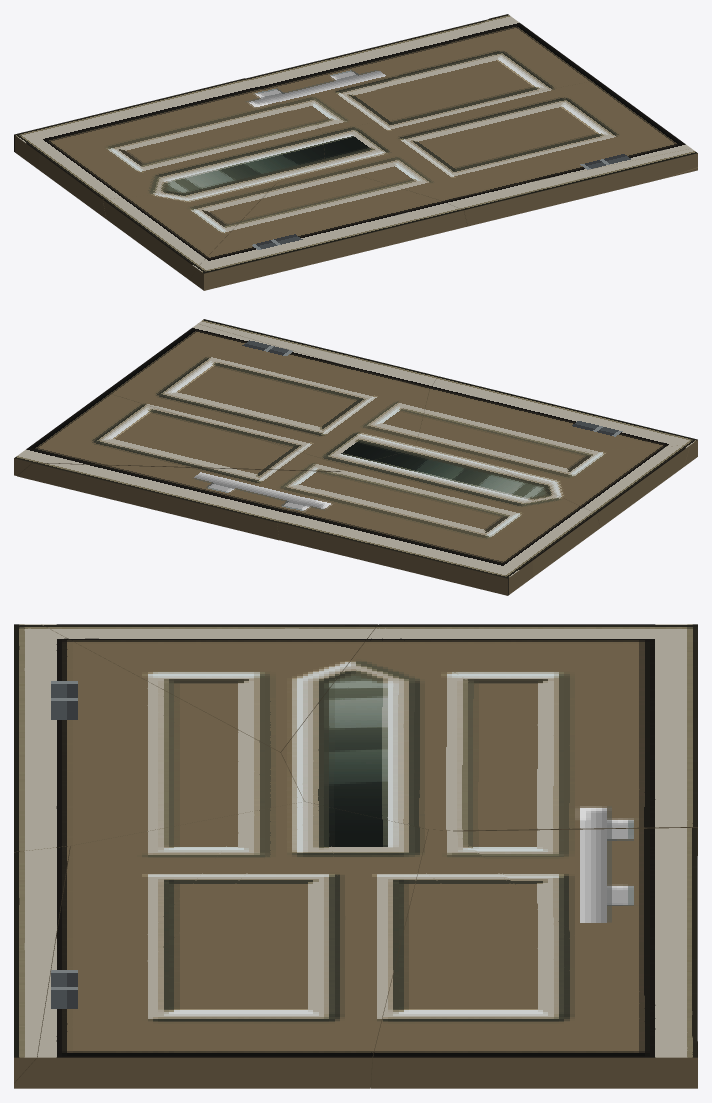
File: door_shrads.glb
3 renders of one model, top to bottom at view 1: azimuth 30°, elevation 25°; view 2: azimuth 150°, elevation 25°; view 3: azimuth 270°, elevation 25°, orthographic. The views are drawn at different scales.
Visible parts, largest first — view 1: Cube_cell.002, Cube_cell.004, Cube_cell.006, Cube_cell.001, Cube_cell.005, Cube_cell, Cube_cell.003; view 2: Cube_cell.004, Cube_cell.002, Cube_cell.001, Cube_cell.006, Cube_cell, Cube_cell.005, Cube_cell.003; view 3: Cube_cell.002, Cube_cell.004, Cube_cell.001, Cube_cell.006, Cube_cell, Cube_cell.005, Cube_cell.003.
Part boxes in pixels (<box>): Cube_cell.002: <box>323,80,697,200</box>; Cube_cell.004: <box>14,78,325,219</box>; Cube_cell.006: <box>190,165,467,290</box>; Cube_cell.001: <box>317,14,597,132</box>; Cube_cell.005: <box>103,184,275,280</box>; Cube_cell: <box>245,19,487,126</box>; Cube_cell.003: <box>441,148,697,226</box>; Cube_cell.004: <box>277,449,600,595</box>; Cube_cell.002: <box>105,324,429,466</box>; Cube_cell.001: <box>14,392,348,475</box>; Cube_cell.006: <box>415,376,697,466</box>; Cube_cell: <box>17,463,339,540</box>; Cube_cell.005: <box>478,445,690,527</box>; Cube_cell.003: <box>198,319,437,389</box>; Cube_cell.002: <box>14,801,428,1088</box>; Cube_cell.004: <box>281,624,697,855</box>; Cube_cell.001: <box>371,829,697,1088</box>; Cube_cell.006: <box>14,624,304,852</box>; Cube_cell: <box>454,827,697,1040</box>; Cube_cell.005: <box>41,624,377,752</box>; Cube_cell.003: <box>14,846,69,1082</box>.
Size of the model in its own units: 6 by 0.2045 by 4.
Materials: 1 (1 with a texture image).
